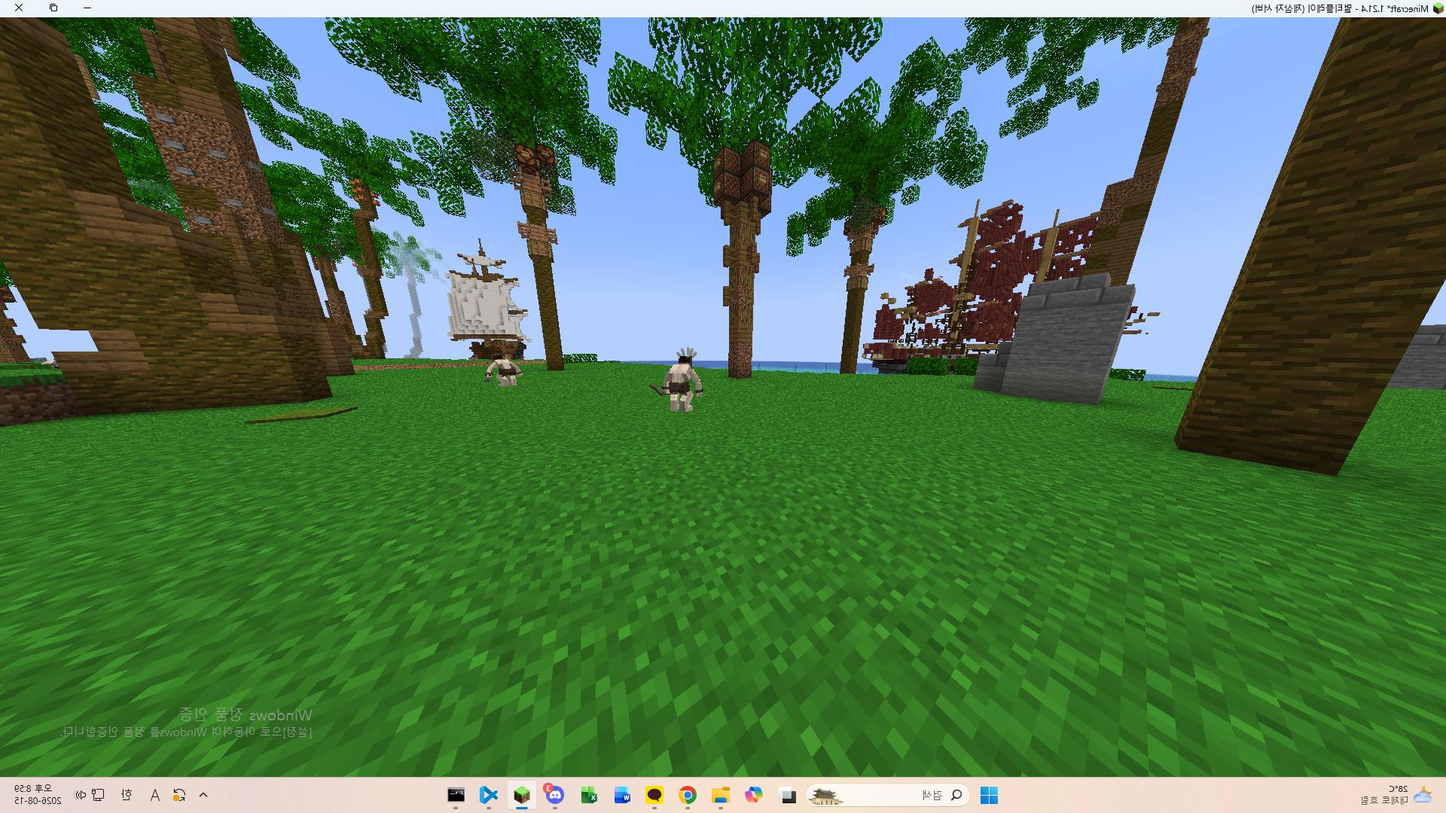bow_indian: (638, 342, 706, 428)
